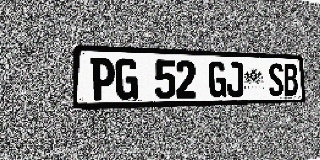2: (176, 60, 196, 98)
5: (155, 59, 176, 99)
B: (283, 64, 298, 96)
G: (115, 58, 138, 100), (208, 61, 227, 98)
J: (226, 62, 244, 97)
P: (90, 57, 115, 101)
S: (268, 63, 284, 96)
